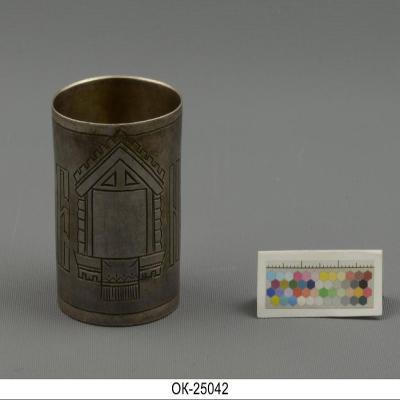dpi: (52, 77, 182, 329)
